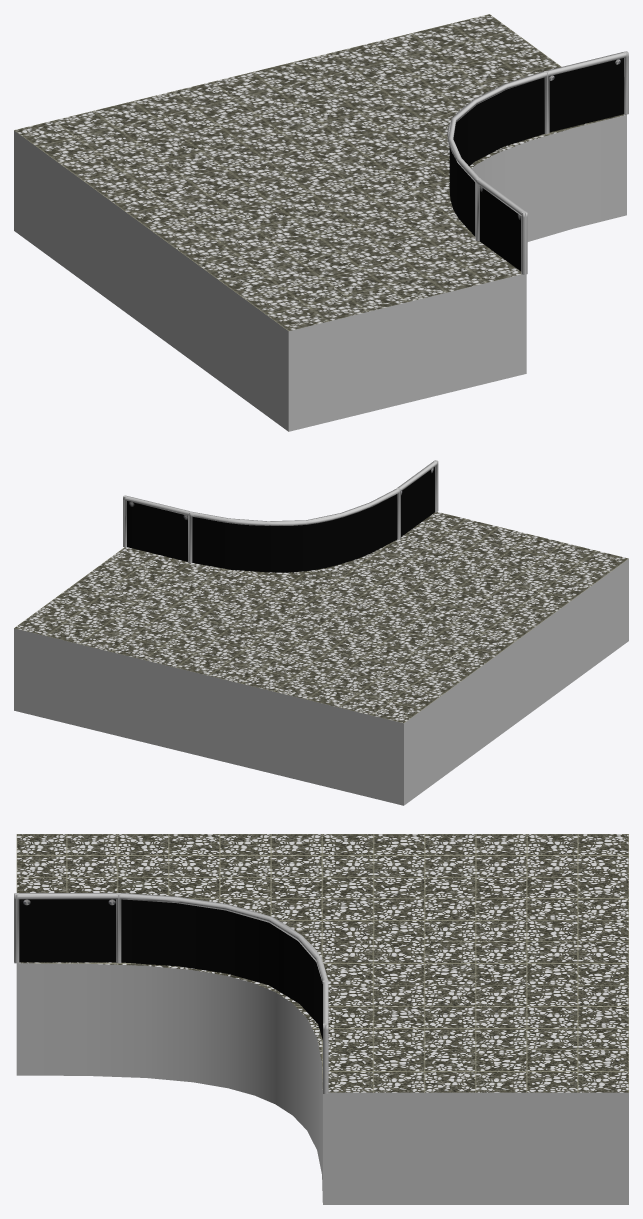
The model's file is Floor_RA.fbx.
The picture shows the model from 3 angles, top to bottom: view 1: azimuth 30°, elevation 25°; view 2: azimuth 150°, elevation 25°; view 3: azimuth 270°, elevation 25°; orthographic projection. The views are drawn at different scales.
Parts seen in each view (by area): view 1: Floor_RA, Barricade_Bars_RF, Barricade_Bars_RF_L0; view 2: Floor_RA, Barricade_Bars_RF, Barricade_Bars_RF_L0; view 3: Floor_RA, Barricade_Bars_RF, Barricade_Bars_RF_L0.
Boxes of the visible parts, bbox=[...] form: Floor_RA: bbox=[14, 14, 626, 431]; Barricade_Bars_RF: bbox=[447, 51, 627, 274]; Barricade_Bars_RF_L0: bbox=[448, 52, 628, 274]; Floor_RA: bbox=[14, 512, 628, 805]; Barricade_Bars_RF: bbox=[123, 460, 437, 572]; Barricade_Bars_RF_L0: bbox=[123, 460, 438, 563]; Floor_RA: bbox=[16, 834, 628, 1204]; Barricade_Bars_RF: bbox=[14, 893, 328, 1093]; Barricade_Bars_RF_L0: bbox=[14, 893, 328, 1093].
Bounding box in the file's own units: 24.11 × 7.81 × 24.11.
